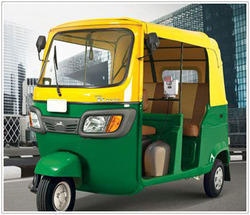auto: (30, 21, 236, 214)
